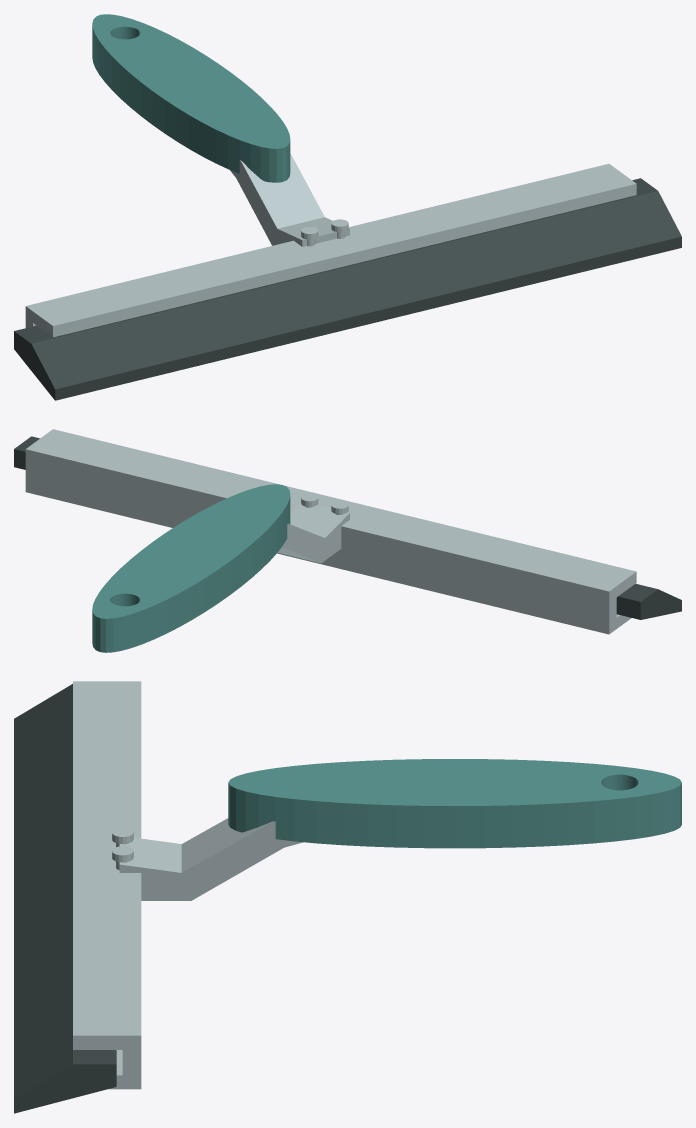
3 views of the same model, one above another, from view 1: azimuth 30°, elevation 25°; view 2: azimuth 150°, elevation 25°; view 3: azimuth 270°, elevation 25° (orthographic). The views are drawn at different scales.
Visible parts, largest first — view 1: WholeFullWidthFiniteBluntWipingLip, WholeTransverseFoldedStraightChannel, WholeElongatedGripWithTrueHangingEye, WholeBentCentralHeadToGripNeck; view 2: WholeTransverseFoldedStraightChannel, WholeElongatedGripWithTrueHangingEye, WholeBentCentralHeadToGripNeck, WholeFullWidthFiniteBluntWipingLip; view 3: WholeElongatedGripWithTrueHangingEye, WholeFullWidthFiniteBluntWipingLip, WholeTransverseFoldedStraightChannel, WholeBentCentralHeadToGripNeck.
Boxes of the visible parts, bbox=[...] form: WholeFullWidthFiniteBluntWipingLip: bbox=[14, 178, 681, 400]; WholeTransverseFoldedStraightChannel: bbox=[25, 164, 636, 337]; WholeElongatedGripWithTrueHangingEye: bbox=[92, 14, 290, 182]; WholeBentCentralHeadToGripNeck: bbox=[230, 153, 349, 246]; WholeTransverseFoldedStraightChannel: bbox=[25, 429, 636, 634]; WholeElongatedGripWithTrueHangingEye: bbox=[92, 484, 290, 652]; WholeBentCentralHeadToGripNeck: bbox=[277, 503, 349, 563]; WholeFullWidthFiniteBluntWipingLip: bbox=[14, 436, 681, 619]; WholeElongatedGripWithTrueHangingEye: bbox=[228, 759, 681, 848]; WholeFullWidthFiniteBluntWipingLip: bbox=[14, 684, 116, 1113]; WholeTransverseFoldedStraightChannel: bbox=[73, 681, 141, 1089]; WholeBentCentralHeadToGripNeck: bbox=[119, 818, 302, 900].
Bounding box in the file's own units: 0.29 × 0.05 × 0.215.
